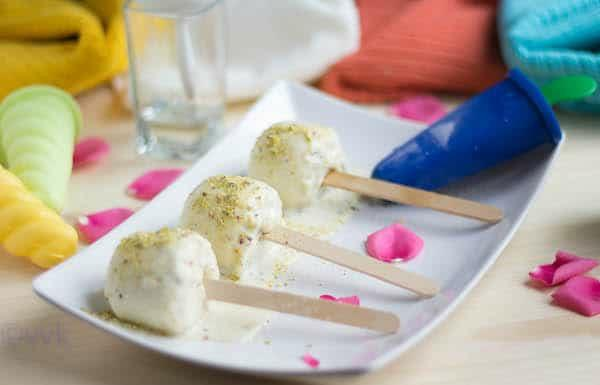Kulfi: (103, 225, 220, 339), (183, 170, 286, 275), (249, 118, 352, 212)
